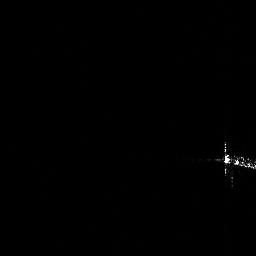ship: (216, 139, 256, 178)
